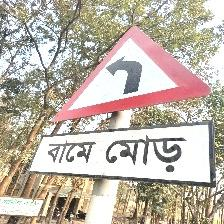Left-Turn: (44, 26, 217, 191)
